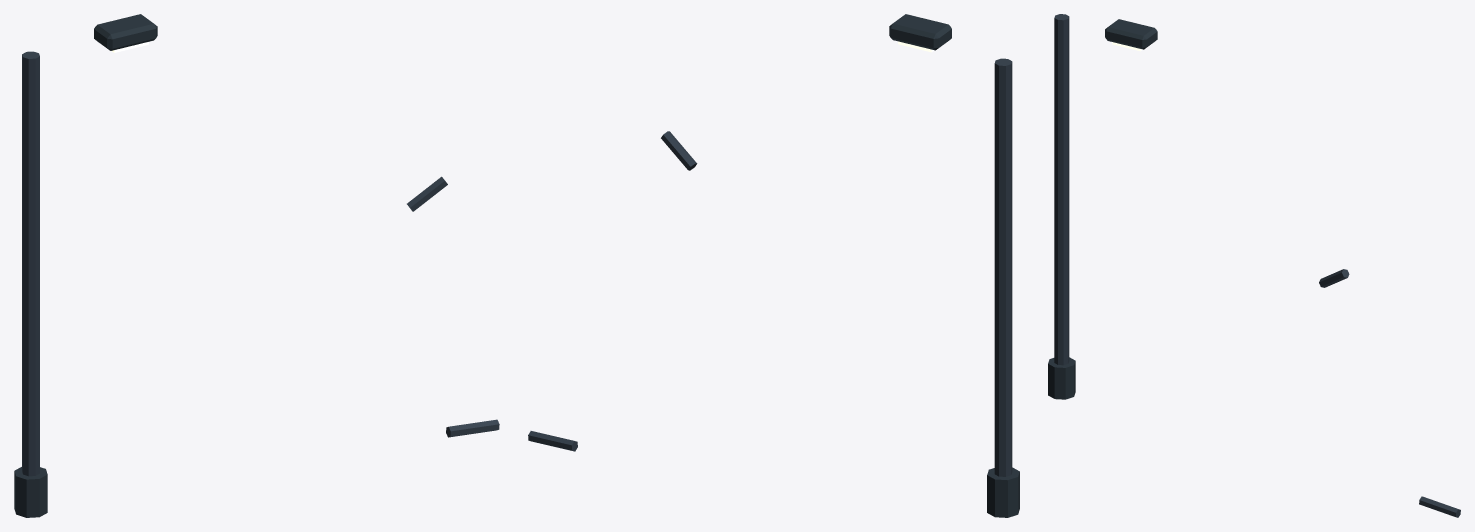
Rendered from hd_streetlamp.gltf.
The picture shows the model from 3 angles, left to right: view 1: azimuth 30°, elevation 25°; view 2: azimuth 150°, elevation 25°; view 3: azimuth 330°, elevation 25°; orthographic projection. The views are drawn at different scales.
Parts seen in each view (by area): view 1: pole, head, baseRing, arm1; view 2: pole, head, baseRing; view 3: pole, head, baseRing.
Boxes of the visible parts, x1=… form: pole: x1=22, y1=51, x2=39, y2=476; head: x1=94, y1=14, x2=157, y2=50; baseRing: x1=14, y1=467, x2=47, y2=517; arm1: x1=446, y1=419, x2=499, y2=437; pole: x1=994, y1=58, x2=1012, y2=476; head: x1=889, y1=14, x2=951, y2=50; baseRing: x1=987, y1=467, x2=1019, y2=517; pole: x1=1054, y1=14, x2=1069, y2=365; head: x1=1105, y1=19, x2=1157, y2=49; baseRing: x1=1048, y1=357, x2=1075, y2=399.
Bounding box in the file's own units: 4.26 × 4.24 × 0.7478.
